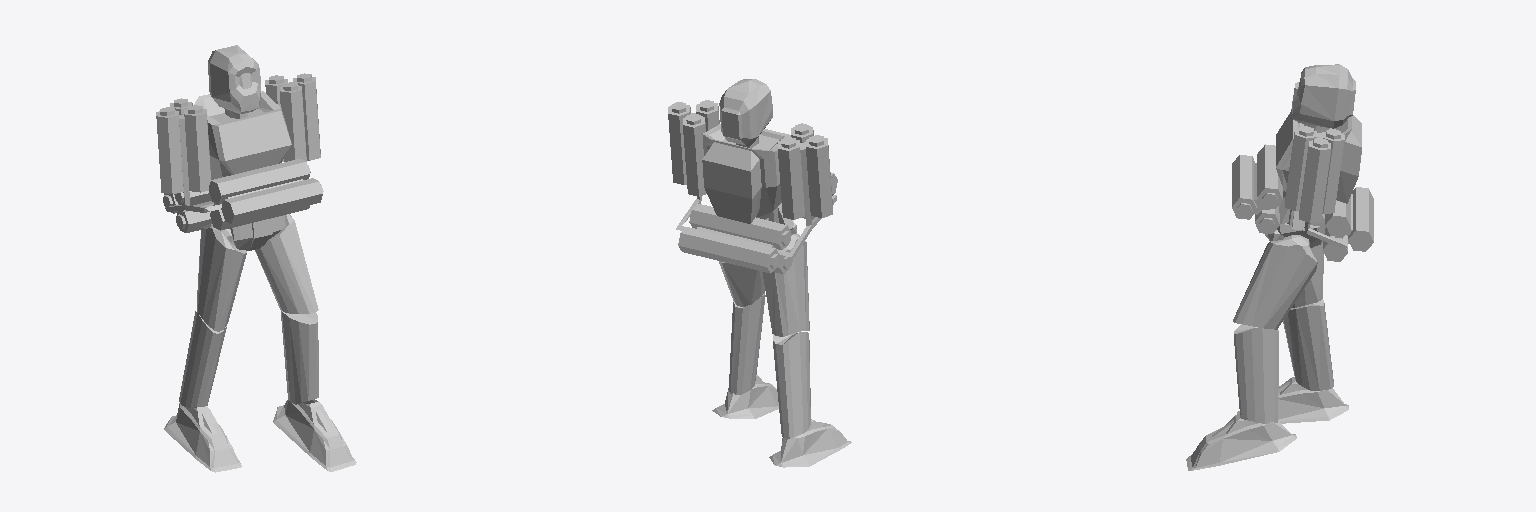
File: robots_000001.obj
3 views of the same model, side by side, from view 1: azimuth 30°, elevation 25°; view 2: azimuth 150°, elevation 25°; view 3: azimuth 270°, elevation 25° (orthographic).
Parts seen in each view (by area): view 1: Cylinder.004_Cylinder.006, Chest_plate_Cube.004, R_Thigh_Cube.005, R_Thigh.002_Cube.027, R_Foot.002_Cube.035, R_Shin.002_Cube.029, Head_base.002_Cube.030, R_Foot_Cube, R_Shin_Cube.007, Pelvis_Cube.006; view 2: Cylinder.004_Cylinder.006, Chest_plate_Cube.004, R_Shin_Cube.007, R_Thigh_Cube.005, Head_base.002_Cube.030, R_Shin.002_Cube.029, R_Foot_Cube, R_Foot.002_Cube.035, R_Thigh.002_Cube.027; view 3: Cylinder.004_Cylinder.006, R_Thigh.002_Cube.027, R_Shin.002_Cube.029, R_Foot.002_Cube.035, Head_base.002_Cube.030, R_Shin_Cube.007, Chest_plate_Cube.004, R_Foot_Cube, R_Thigh_Cube.005, Pelvis_Cube.006.
Boxes of the visible parts, x1=… form: Cylinder.004_Cylinder.006: x1=156, y1=73, x2=323, y2=232; Chest_plate_Cube.004: x1=193, y1=91, x2=291, y2=205; R_Thigh_Cube.005: x1=197, y1=223, x2=246, y2=331; R_Thigh.002_Cube.027: x1=255, y1=214, x2=318, y2=313; R_Foot.002_Cube.035: x1=273, y1=399, x2=356, y2=471; R_Shin.002_Cube.029: x1=281, y1=311, x2=318, y2=404; Head_base.002_Cube.030: x1=208, y1=45, x2=260, y2=113; R_Foot_Cube: x1=164, y1=403, x2=241, y2=472; R_Shin_Cube.007: x1=179, y1=311, x2=226, y2=407; Pelvis_Cube.006: x1=230, y1=216, x2=285, y2=250; Cylinder.004_Cylinder.006: x1=668, y1=100, x2=837, y2=273; Chest_plate_Cube.004: x1=702, y1=124, x2=793, y2=228; R_Shin_Cube.007: x1=773, y1=332, x2=810, y2=438; R_Thigh_Cube.005: x1=762, y1=234, x2=809, y2=336; Head_base.002_Cube.030: x1=719, y1=79, x2=772, y2=145; R_Shin.002_Cube.029: x1=729, y1=293, x2=765, y2=394; R_Foot_Cube: x1=769, y1=419, x2=851, y2=467; R_Foot.002_Cube.035: x1=712, y1=375, x2=778, y2=418; R_Thigh.002_Cube.027: x1=719, y1=261, x2=764, y2=306; Cylinder.004_Cylinder.006: x1=1232, y1=82, x2=1373, y2=261; R_Thigh.002_Cube.027: x1=1233, y1=239, x2=1317, y2=329; R_Shin.002_Cube.029: x1=1234, y1=324, x2=1278, y2=423; R_Foot.002_Cube.035: x1=1186, y1=414, x2=1296, y2=470; Head_base.002_Cube.030: x1=1292, y1=64, x2=1355, y2=128; R_Shin_Cube.007: x1=1283, y1=299, x2=1333, y2=390; Chest_plate_Cube.004: x1=1276, y1=110, x2=1361, y2=230; R_Foot_Cube: x1=1237, y1=377, x2=1348, y2=423; R_Thigh_Cube.005: x1=1292, y1=241, x2=1323, y2=307; Pelvis_Cube.006: x1=1265, y1=214, x2=1325, y2=247.
Size of the model in its own units: 1.38 by 3.11 by 1.4.